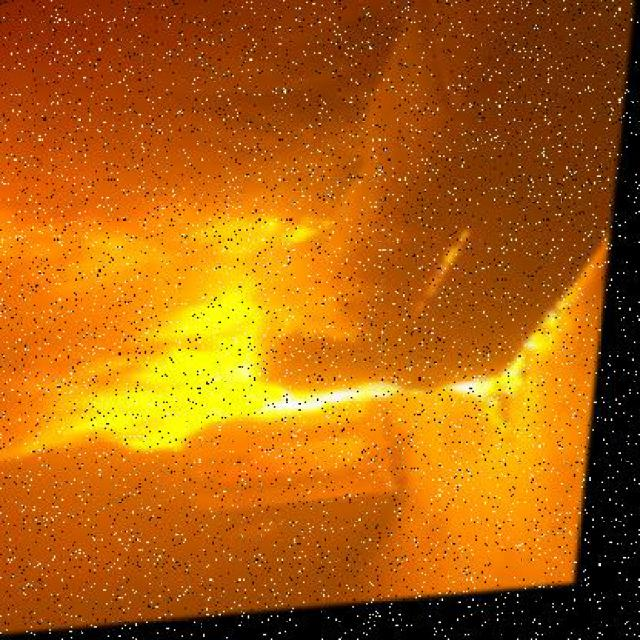fire: (1, 273, 557, 478)
